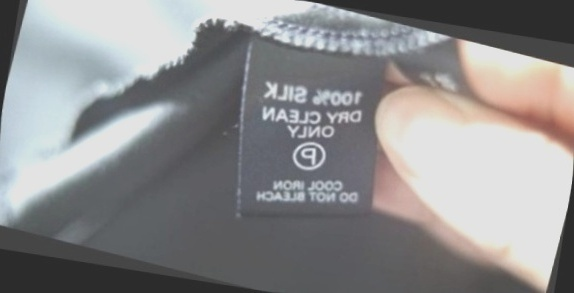dry_clean_any_solvent_except_trichloroethylene: (285, 133, 332, 177)
